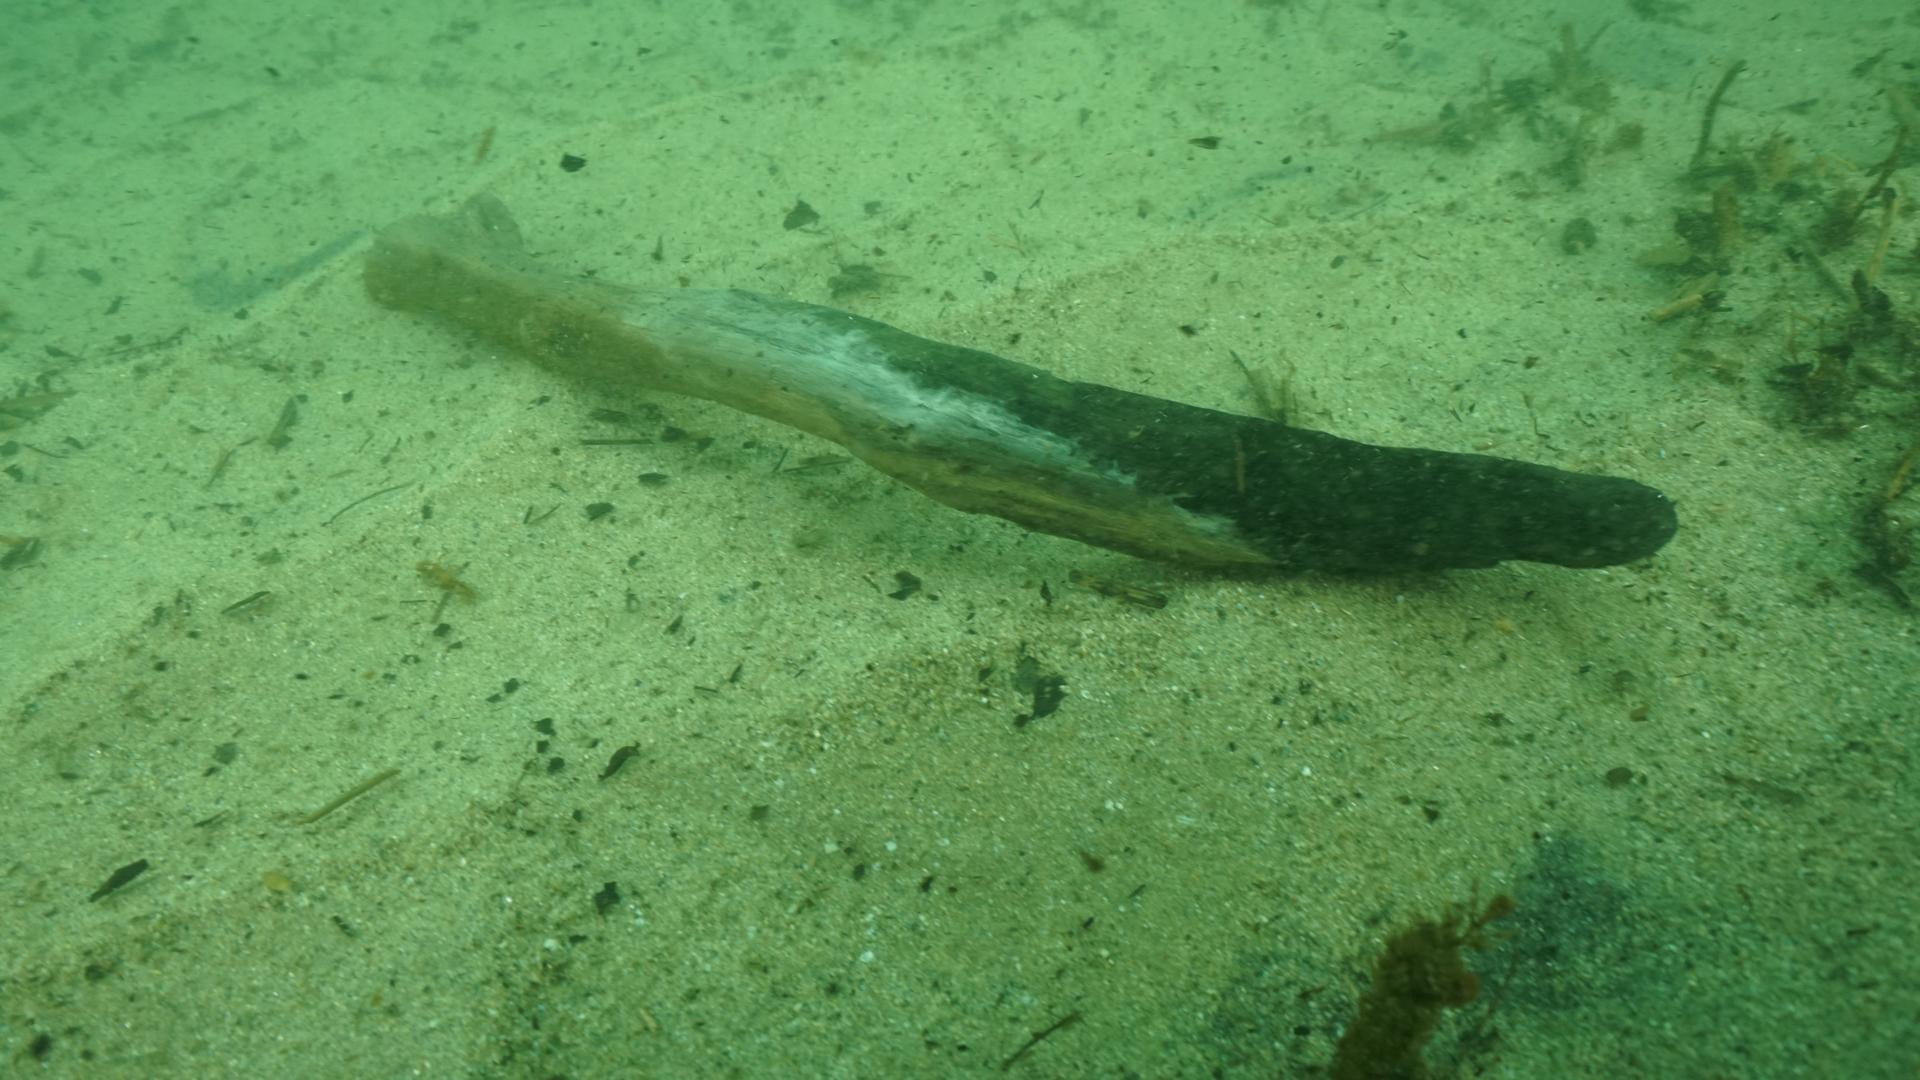wood: (363, 189, 1680, 574)
